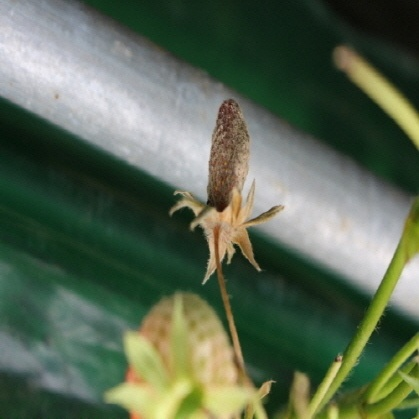Gray_Mold: (168, 134, 286, 321)
